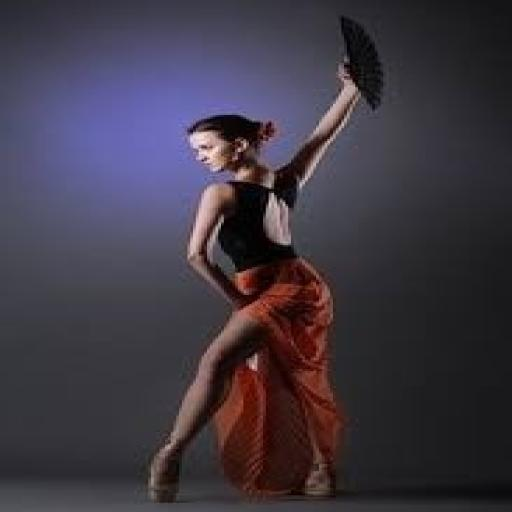dancing: (140, 13, 389, 505)
